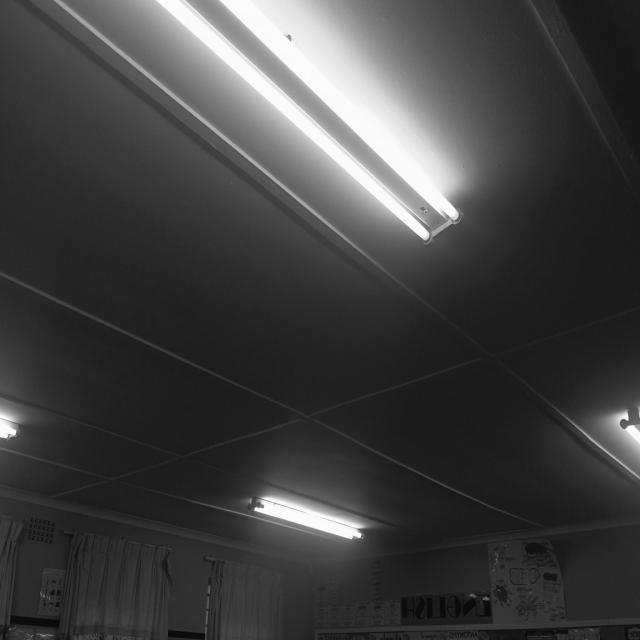light: (155, 0, 468, 245), (247, 496, 363, 542)
